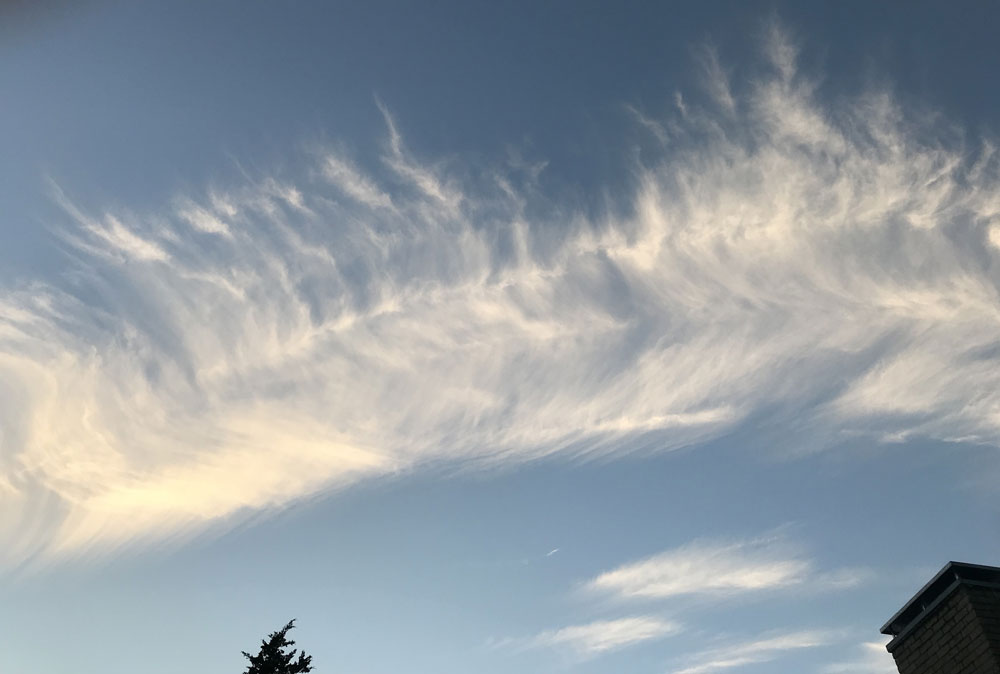Cirrus: (3, 47, 1000, 546)
